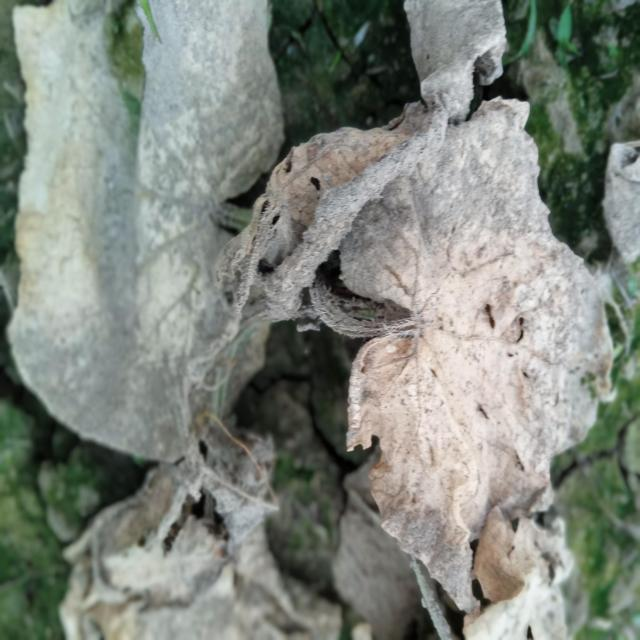cucumber_bacterial: (336, 97, 640, 578), (58, 443, 338, 640), (202, 114, 380, 422)
